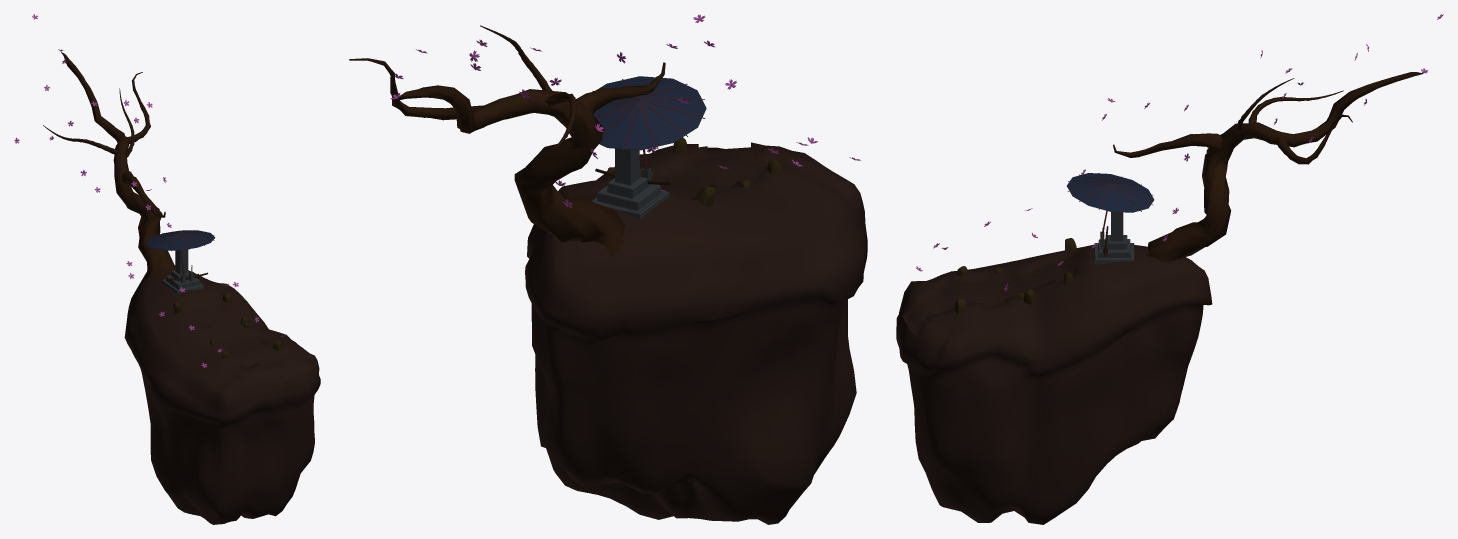
Rendered from Diorama.fbx.
3 views of the same model, side by side, from view 1: azimuth 30°, elevation 25°; view 2: azimuth 150°, elevation 25°; view 3: azimuth 270°, elevation 25° (orthographic). The views are drawn at different scales.
Visible parts, largest first — view 1: Cliff, Tree_base, UmbrellaShade, Grave, Tree_Branch1, Tree_Branch2; view 2: Cliff, Tree_base, UmbrellaShade, Grave, Tree_Branch1, Tree_Branch2, Umbrella1; view 3: Cliff, Tree_base, UmbrellaShade, Grave, Tree_Branch1, Tree_Branch2.
Boxes of the visible parts, box(x1,y1,x2,y2) form: Cliff: box(124, 265, 320, 524); Tree_base: box(61, 51, 175, 279); UmbrellaShade: box(145, 230, 215, 250); Grave: box(162, 249, 203, 293); Tree_Branch1: box(122, 171, 165, 217); Tree_Branch2: box(125, 72, 150, 143); Cliff: box(525, 142, 867, 524); Tree_base: box(396, 85, 624, 256); UmbrellaShade: box(593, 76, 706, 150); Grave: box(592, 148, 669, 219); Tree_Branch1: box(575, 62, 665, 114); Tree_Branch2: box(349, 58, 483, 120); Umbrella1: box(592, 76, 705, 169); Cliff: box(896, 244, 1212, 524); Tree_base: box(1147, 72, 1423, 261); UmbrellaShade: box(1067, 173, 1154, 212); Grave: box(1094, 212, 1134, 264); Tree_Branch1: box(1113, 133, 1222, 157); Tree_Branch2: box(1276, 114, 1352, 164).
Bounding box in the file's own units: 28.16 × 71.25 × 74.58.
